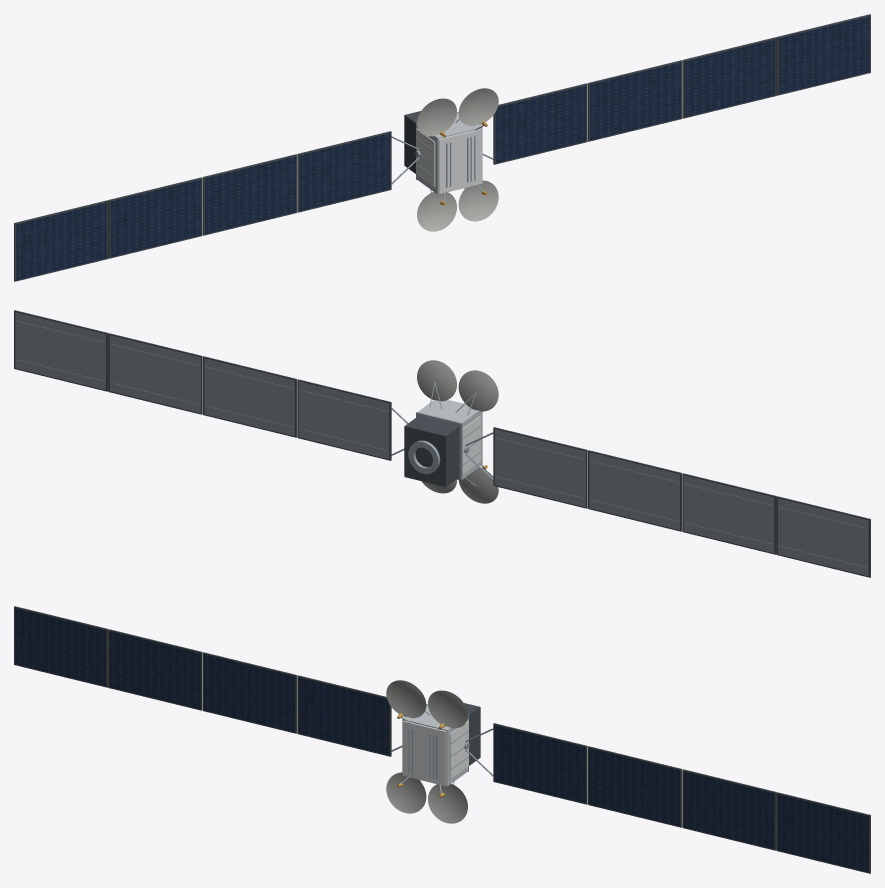
The model's file is ref-bss-702sp-40424.glb.
3 views of the same model, one above another, from view 1: azimuth 30°, elevation 25°; view 2: azimuth 150°, elevation 25°; view 3: azimuth 330°, elevation 25° (orthographic).
Parts seen in each view (by area): view 1: Solar cell panel (×8), Solar panel frame (×8), Communications reflector (×4), Earth-facing deck, Radiator face, Payload module, Service module; view 2: Rear array substrate (×8), Solar panel frame (×8), Communications reflector (×3), Service module, Payload module, Radiator face, Launch adapter ring; view 3: Solar cell panel (×8), Solar panel frame (×8), Communications reflector (×4), Earth-facing deck, Radiator face, Payload module, Service module.
Boxes of the visible parts, bbox=[...] form: Solar cell panel (×8): bbox=[16, 16, 869, 280]; Solar panel frame (×8): bbox=[14, 14, 870, 281]; Communications reflector (×4): bbox=[417, 88, 498, 231]; Earth-facing deck: bbox=[438, 128, 482, 193]; Radiator face: bbox=[416, 128, 435, 187]; Payload module: bbox=[417, 113, 482, 194]; Service module: bbox=[404, 111, 420, 173]; Rear array substrate (×8): bbox=[15, 312, 868, 576]; Solar panel frame (×8): bbox=[14, 310, 870, 577]; Communications reflector (×3): bbox=[417, 360, 498, 503]; Service module: bbox=[404, 416, 459, 486]; Payload module: bbox=[418, 400, 482, 479]; Radiator face: bbox=[462, 416, 480, 474]; Launch adapter ring: bbox=[408, 440, 440, 474]; Solar cell panel (×8): bbox=[15, 608, 868, 872]; Solar panel frame (×8): bbox=[14, 606, 870, 873]; Communications reflector (×4): bbox=[386, 680, 467, 823]; Earth-facing deck: bbox=[402, 720, 446, 785]; Radiator face: bbox=[449, 720, 468, 779]; Payload module: bbox=[402, 705, 467, 786]; Service module: bbox=[464, 703, 480, 765].
Size of the model in its own units: 39.96 by 5.89 by 3.44.
Materials: 8 (1 with a texture image).
